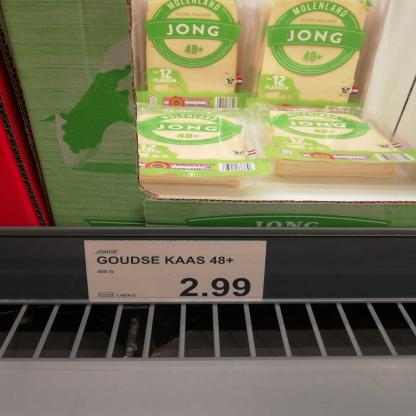prtg: (84, 241, 268, 303)
